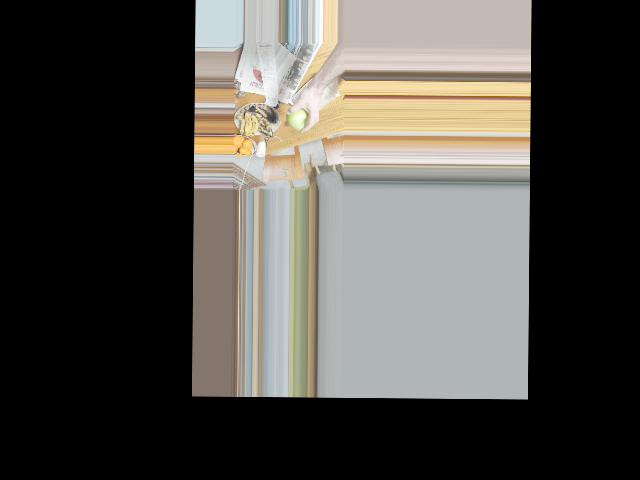apple: (286, 105, 310, 131)
